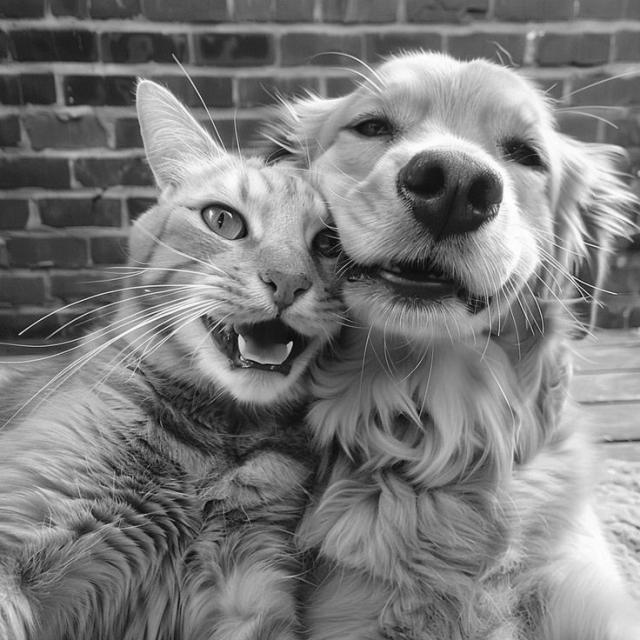cat: (31, 48, 337, 640)
dog: (352, 56, 618, 630)
